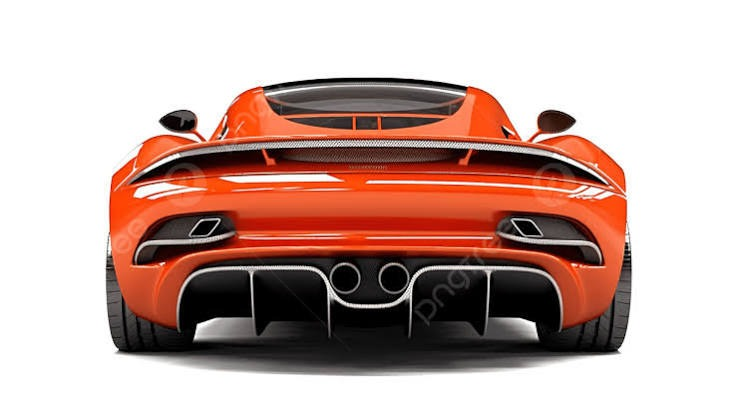car: (79, 77, 648, 360), (99, 66, 624, 341)
